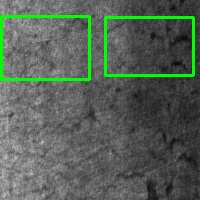crazing: (1, 16, 89, 79), (105, 18, 193, 75)
